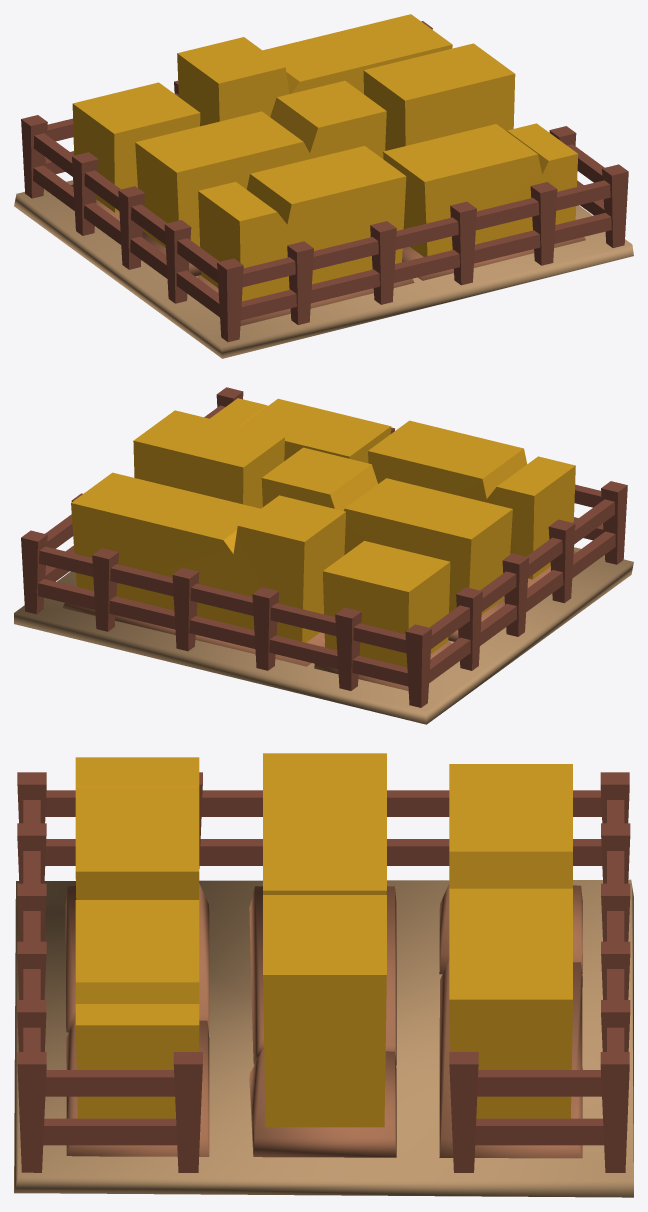
The model's file is farm-plot.glb.
3 views of the same model, one above another, from view 1: azimuth 30°, elevation 25°; view 2: azimuth 150°, elevation 25°; view 3: azimuth 270°, elevation 25° (orthographic). The views are drawn at different scales.
Parts seen in each view (by area): view 1: farm_plot; view 2: farm_plot; view 3: farm_plot.
Boxes of the visible parts, left/top/right/bottom form: farm_plot: left=14, top=14, right=633, bottom=358; farm_plot: left=14, top=387, right=633, bottom=724; farm_plot: left=14, top=753, right=633, bottom=1197.
Size of the model in its own units: 1.46 by 0.4566 by 1.28.
